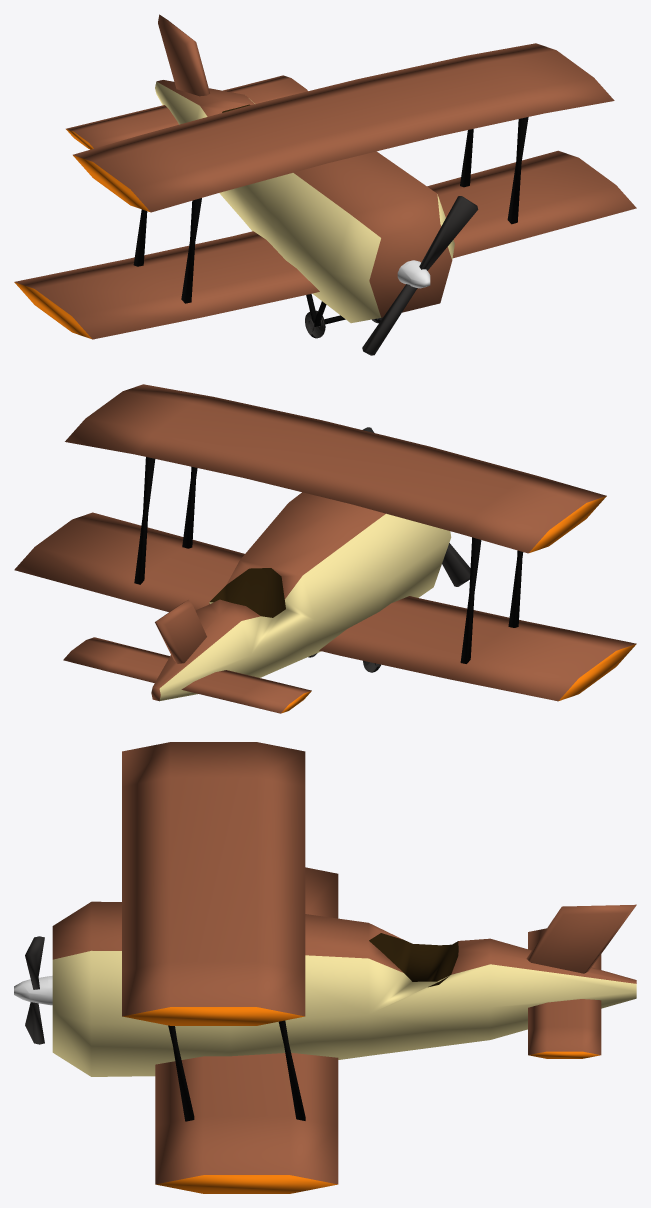
The model's file is airplaneModel.fbx.
The picture shows the model from 3 angles, top to bottom: view 1: azimuth 30°, elevation 25°; view 2: azimuth 150°, elevation 25°; view 3: azimuth 270°, elevation 25°; orthographic projection. The views are drawn at different scales.
Parts seen in each view (by area): view 1: Cube, Mball; view 2: Cube; view 3: Cube, Mball.
Part boxes in pixels (x1,y1,x2,y2): Cube: (14, 14, 636, 355); Mball: (397, 260, 430, 288); Cube: (14, 384, 636, 713); Cube: (25, 742, 636, 1193); Mball: (14, 976, 52, 1005).
Bounding box in the file's own units: 1002 × 374 × 854.
Materials: 1 (1 with a texture image).
